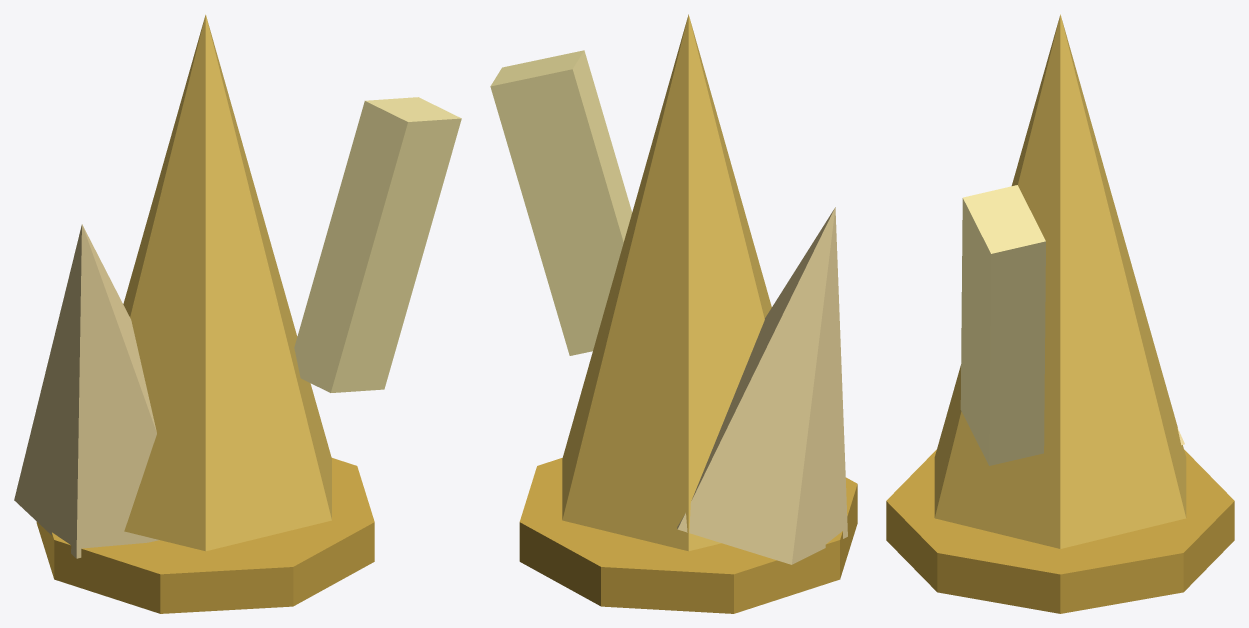
The model's file is pyro_volt_item.glb.
The picture shows the model from 3 angles, left to right: view 1: azimuth 30°, elevation 25°; view 2: azimuth 150°, elevation 25°; view 3: azimuth 270°, elevation 25°; orthographic projection.
Visible parts, largest first — view 1: FlameCore, BoltAccent, FlameSide, Base; view 2: FlameCore, FlameSide, BoltAccent, Base; view 3: FlameCore, Base, BoltAccent.
Part boxes in pixels (box(x1,y1,x2,y2)): FlameCore: box(123, 14, 331, 551); BoltAccent: box(294, 97, 461, 392); FlameSide: box(14, 224, 159, 558); Base: box(36, 458, 374, 613); FlameCore: box(562, 14, 771, 551); FlameSide: box(677, 207, 847, 564); BoltAccent: box(490, 50, 632, 355); Base: box(519, 458, 857, 613); FlameCore: box(934, 14, 1186, 548); Base: box(886, 449, 1234, 613); BoltAccent: box(960, 185, 1045, 465).
Bounding box in the file's own units: 0.0738 × 0.1 × 0.06.
